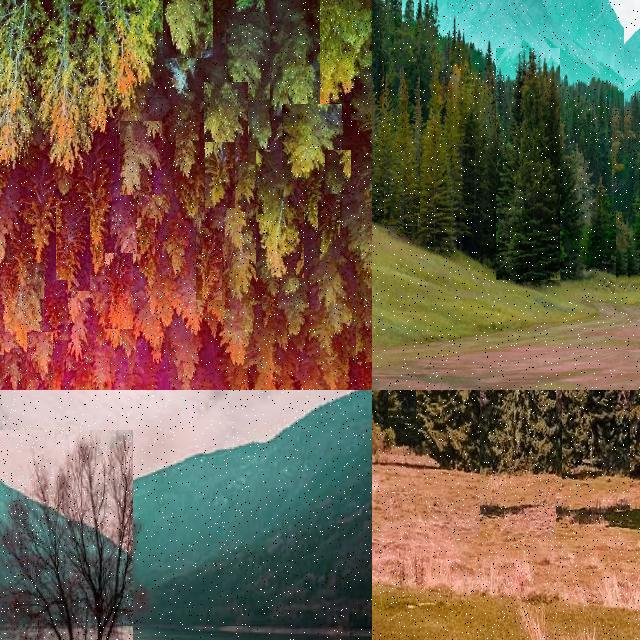tree: (0, 430, 133, 640), (0, 0, 156, 172), (548, 390, 640, 634), (496, 48, 560, 280), (480, 390, 556, 542), (588, 390, 640, 586), (437, 390, 495, 540), (562, 390, 630, 510), (544, 102, 588, 264), (420, 84, 462, 248), (320, 0, 372, 120), (465, 63, 499, 245), (256, 150, 304, 278), (384, 62, 420, 226), (614, 73, 640, 287), (270, 7, 314, 115), (282, 104, 342, 180), (0, 263, 45, 355), (616, 124, 640, 292), (226, 12, 270, 100), (204, 82, 248, 162), (24, 164, 56, 268), (120, 121, 162, 195), (56, 201, 90, 291), (618, 151, 640, 289), (612, 108, 640, 212), (163, 0, 213, 58), (592, 176, 622, 272), (624, 111, 640, 287), (77, 162, 107, 246), (590, 81, 616, 177), (612, 391, 640, 474), (228, 242, 266, 302), (221, 299, 255, 366), (172, 101, 200, 179), (172, 274, 206, 338), (105, 253, 133, 329), (310, 250, 346, 308), (111, 200, 141, 268), (372, 51, 384, 217), (205, 142, 235, 208), (132, 177, 170, 229), (142, 268, 174, 328), (196, 228, 222, 300), (624, 22, 640, 138), (254, 314, 278, 390), (171, 324, 201, 384), (116, 90, 148, 144), (232, 150, 262, 206), (67, 298, 93, 362), (162, 221, 190, 275), (176, 172, 204, 224), (1, 188, 20, 264), (44, 280, 68, 340), (282, 288, 308, 339), (318, 200, 340, 260), (27, 332, 53, 380), (222, 199, 245, 253), (248, 98, 270, 152), (356, 290, 372, 362), (325, 150, 351, 194), (302, 175, 322, 232), (14, 224, 32, 284), (44, 350, 68, 390), (68, 358, 95, 390), (139, 249, 159, 289), (388, 390, 416, 418), (632, 24, 640, 120), (4, 348, 22, 390), (632, 61, 640, 153), (372, 0, 384, 54), (137, 218, 155, 254), (207, 288, 225, 324), (88, 237, 104, 275), (628, 256, 640, 304), (262, 296, 278, 328), (389, 0, 401, 32), (263, 274, 279, 298), (192, 376, 215, 390), (402, 0, 414, 22)
